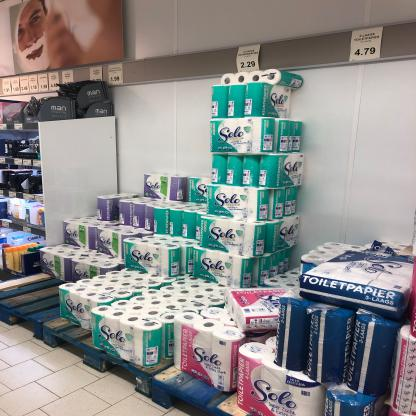prtg: (350, 28, 384, 63), (237, 45, 262, 73), (109, 64, 124, 86), (29, 76, 40, 94), (49, 73, 60, 91), (91, 67, 104, 82), (39, 75, 49, 93), (12, 78, 22, 95), (21, 77, 31, 94), (3, 80, 13, 96), (63, 71, 74, 85)
